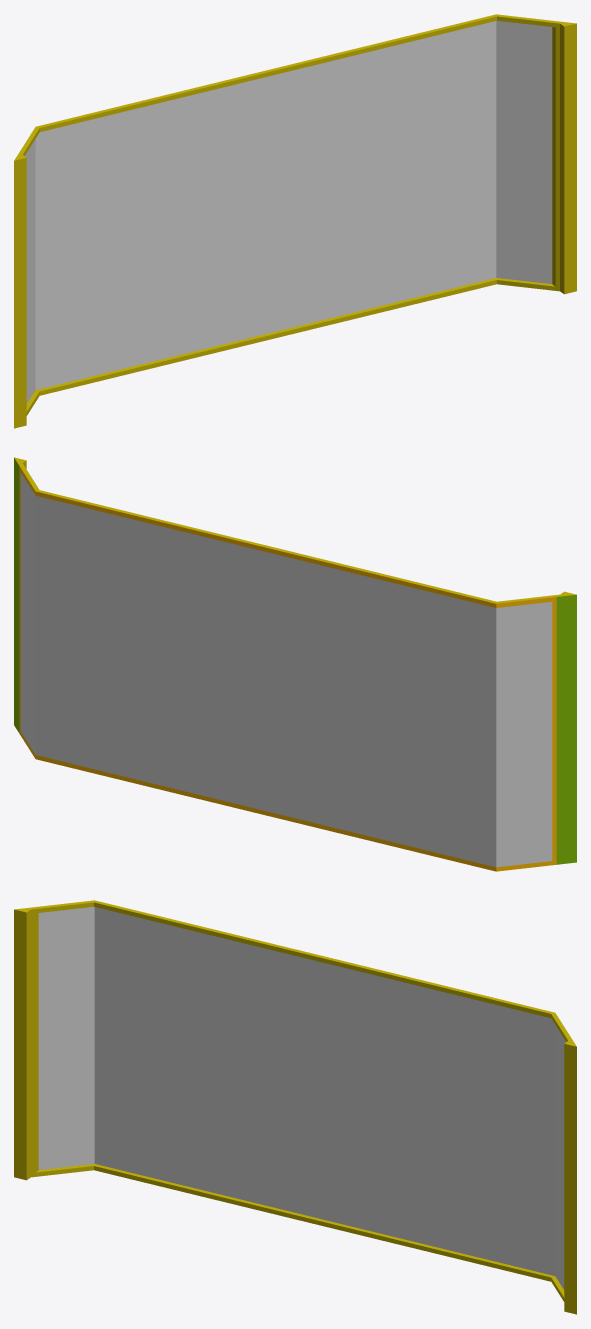
File: window_panoramic_11x1x5.dae
The picture shows the model from 3 angles, top to bottom: view 1: azimuth 30°, elevation 25°; view 2: azimuth 150°, elevation 25°; view 3: azimuth 330°, elevation 25°; orthographic projection.
Visible parts, largest first — view 1: Cube; view 2: Cube; view 3: Cube.
Part boxes in pixels (bbox=[...]): Cube: bbox=[14, 14, 576, 428]; Cube: bbox=[14, 457, 576, 871]; Cube: bbox=[14, 900, 576, 1314].
Size of the model in its own units: 2.75 by 0.25 by 1.25.
